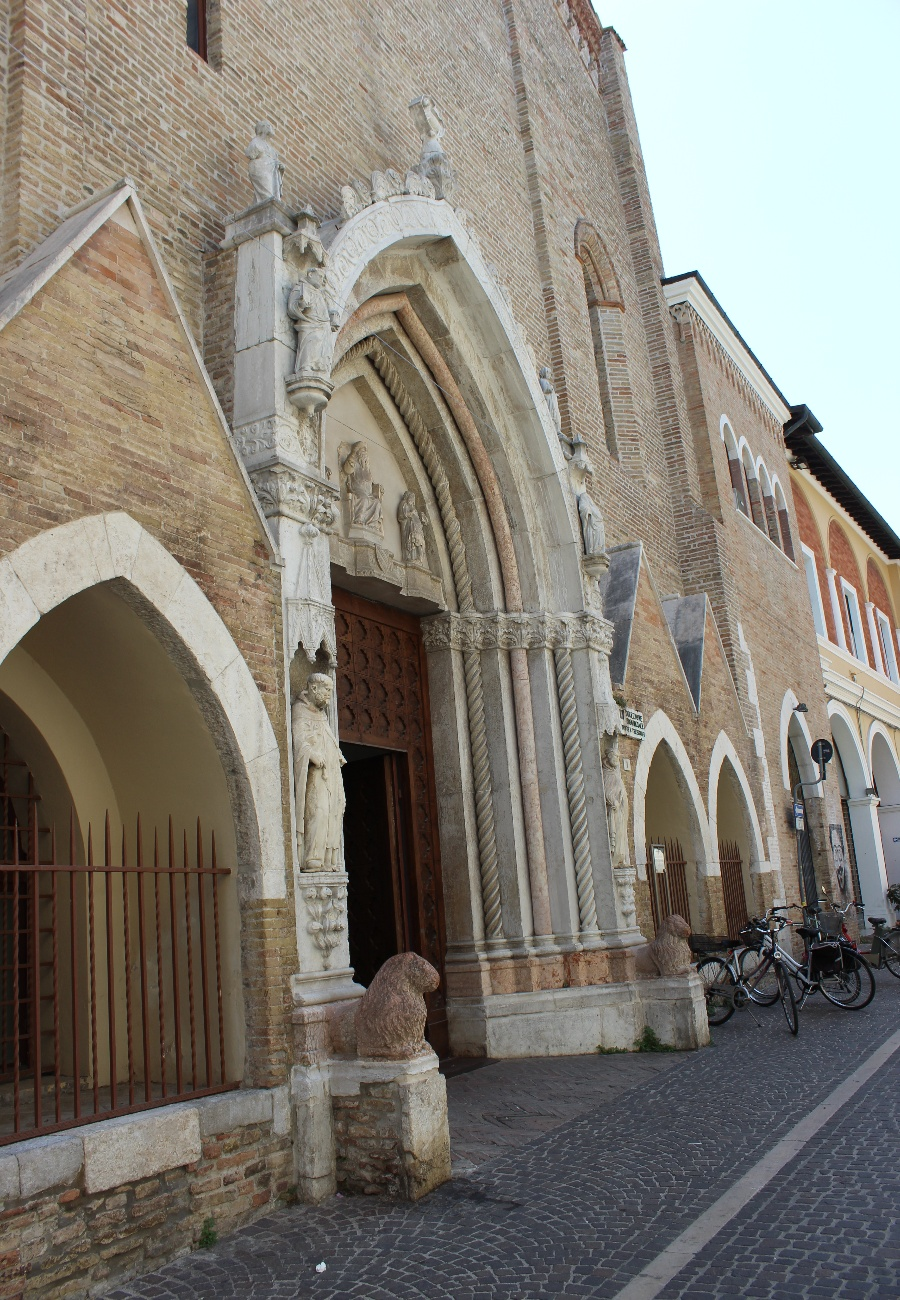Portale San Domenico: (236, 89, 703, 1114)
